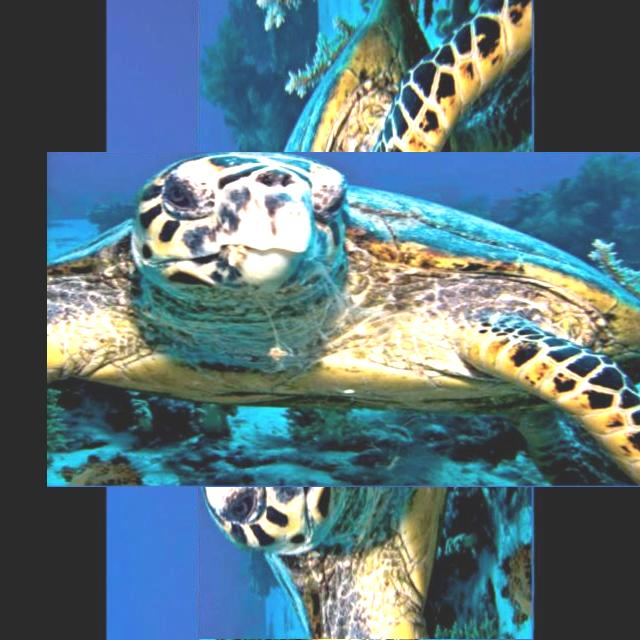Sea turtle: (122, 76, 609, 563)
